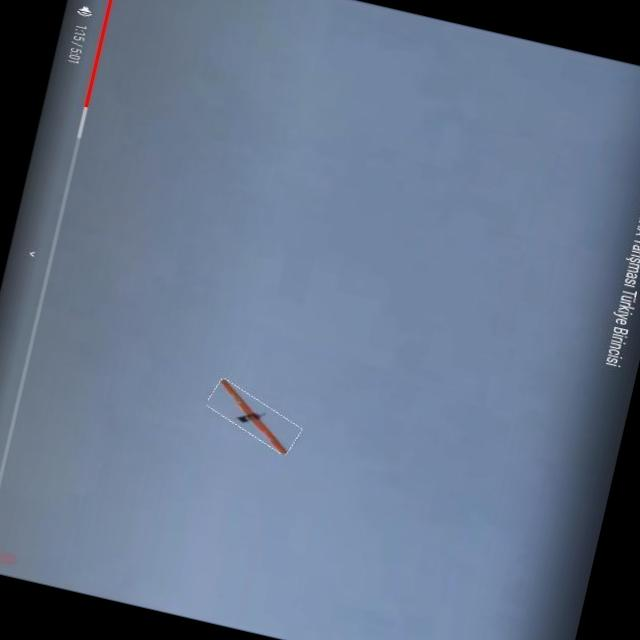UAV: (180, 334, 320, 468)
